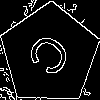C: (24, 30, 81, 86)
